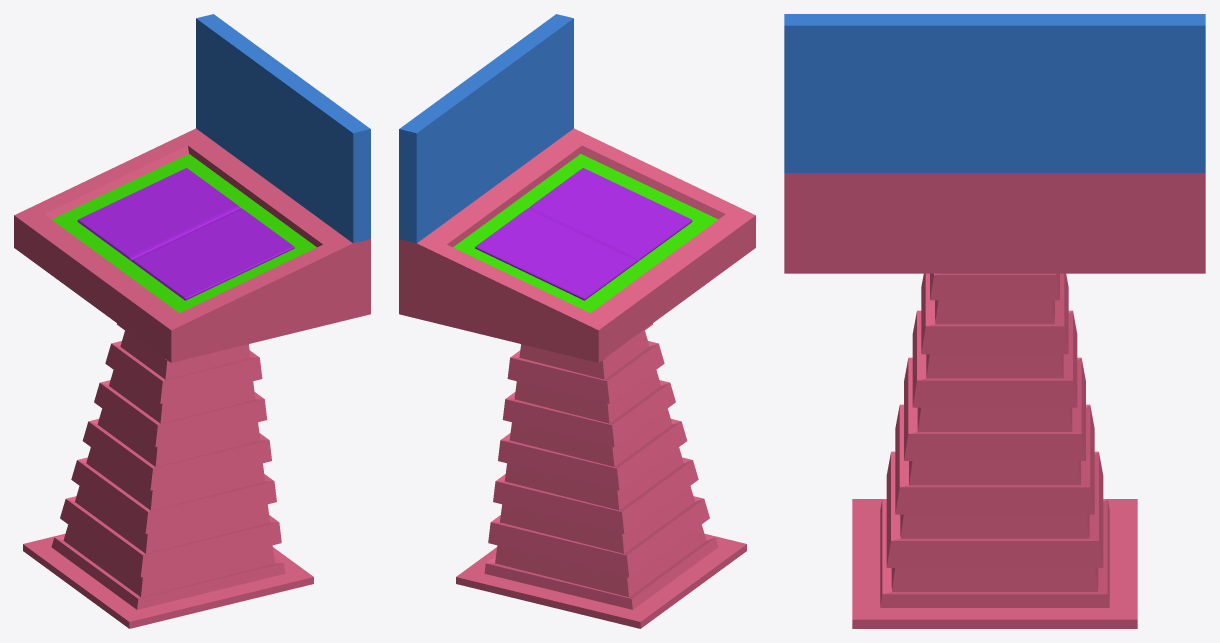
The model's file is totemInformacion_low.fbx.
The picture shows the model from 3 angles, left to right: view 1: azimuth 30°, elevation 25°; view 2: azimuth 150°, elevation 25°; view 3: azimuth 270°, elevation 25°; orthographic projection. The views are drawn at different scales.
Parts seen in each view (by area): view 1: m_totemInfo_low, m_papelInfo_low; view 2: m_totemInfo_low, m_papelInfo_low; view 3: m_totemInfo_low.
Boxes of the visible parts, <box> form: m_totemInfo_low: <box>14,14,370,628</box>; m_papelInfo_low: <box>77,168,294,300</box>; m_totemInfo_low: <box>399,14,755,628</box>; m_papelInfo_low: <box>475,168,692,300</box>; m_totemInfo_low: <box>784,14,1205,628</box>.
Bounding box in the file's own units: 2154 × 4438 × 2715.
